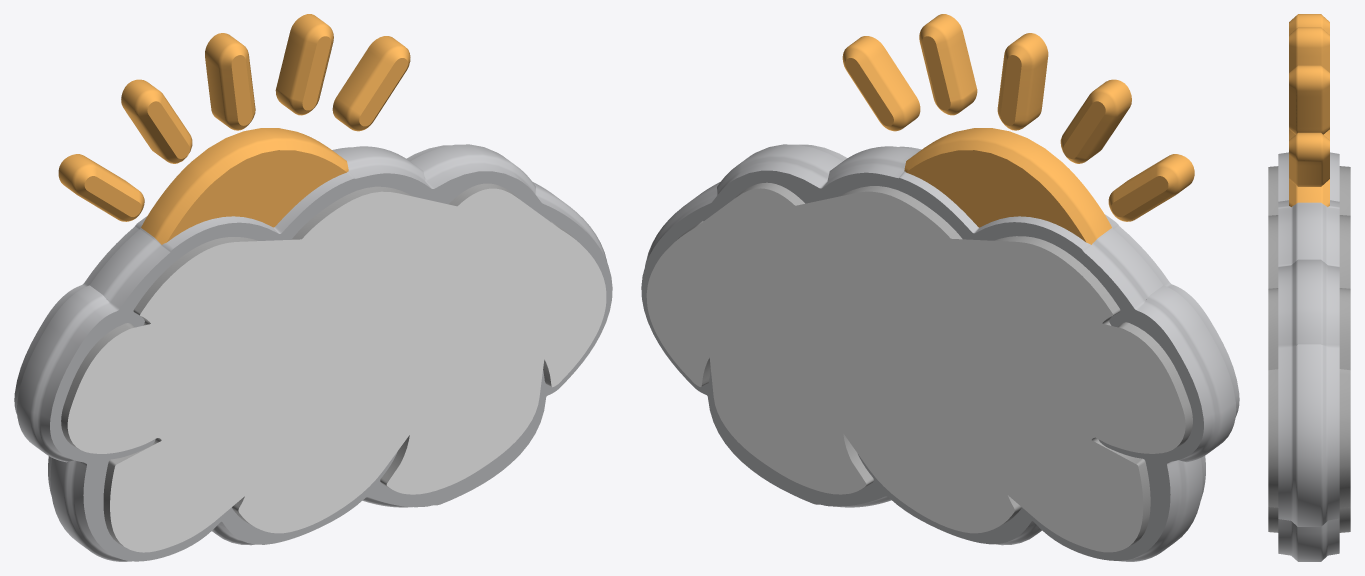
The model's file is beniza.fbx.
3 views of the same model, side by side, from view 1: azimuth 30°, elevation 25°; view 2: azimuth 150°, elevation 25°; view 3: azimuth 270°, elevation 25° (orthographic). The views are drawn at different scales.
Parts seen in each view (by area): view 1: polySurface1; view 2: polySurface1; view 3: polySurface1.
Boxes of the visible parts, box(x1,y1,x2,y2) form: polySurface1: box(14, 14, 612, 561); polySurface1: box(641, 14, 1239, 561); polySurface1: box(1268, 14, 1350, 561).
Bounding box in the file's own units: 6.99 × 5.88 × 0.9971.
